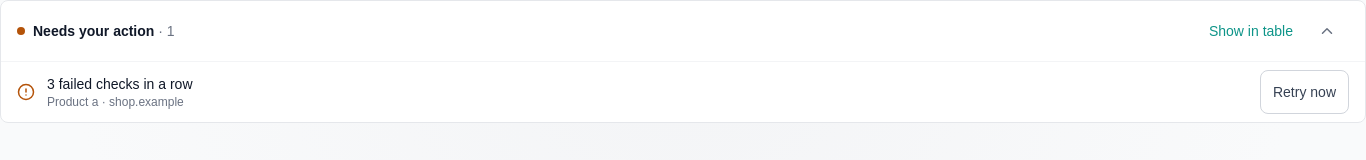
Scenario: NeedsActionCard › should collapse and remember it
This screenshot has width=1366, height=160.
What coordinates should you click on to do the following:
click the button with test id "needs-action-toggle"
I would click on:
 (1327, 31)
Its box is [1305, 9, 1349, 53].
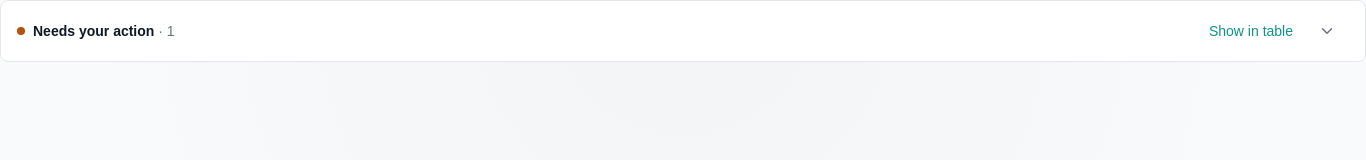
Now the list item with test id "needs-action-item" is gone
Now the button with test id "needs-action-toggle" is collapsed, box [1305, 9, 1349, 53]
